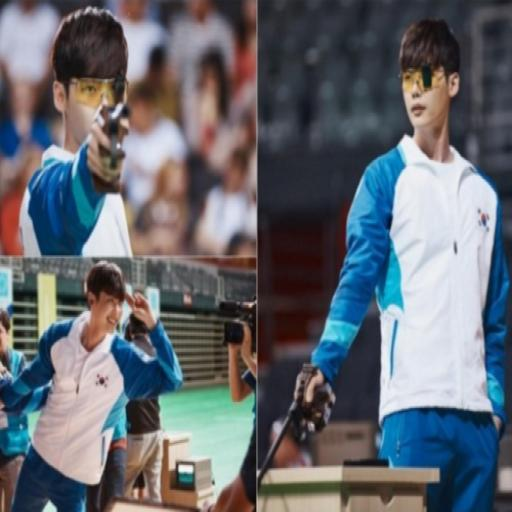shooting: (17, 14, 167, 258)
